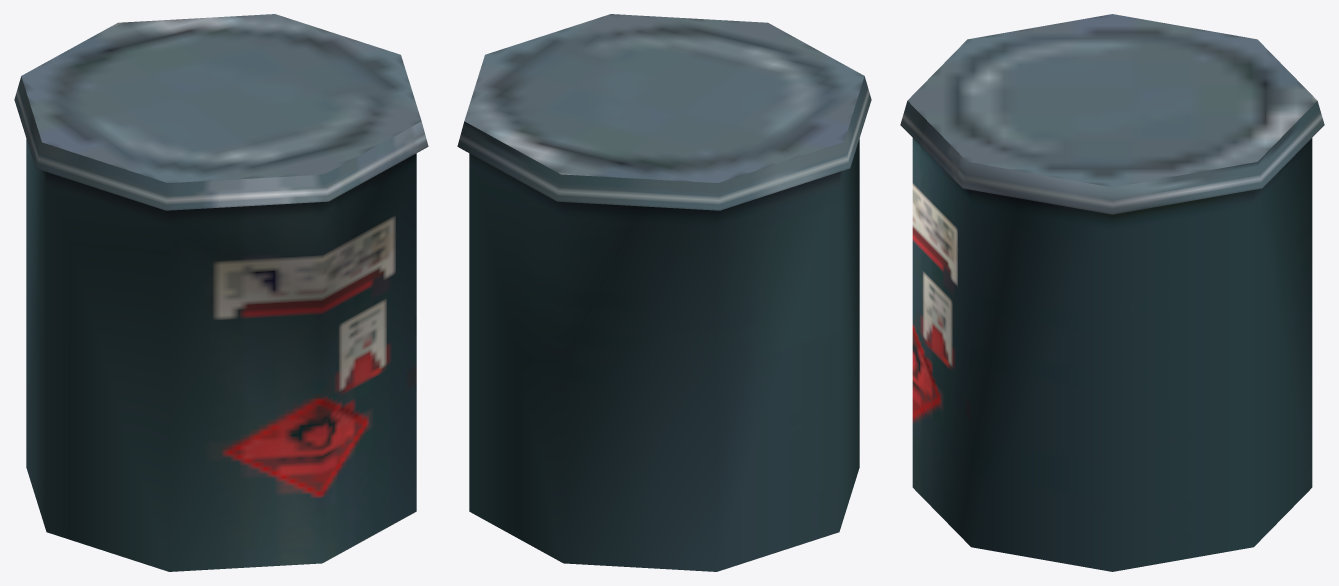
Rendered from chem_bucket.fbx.
3 renders of one model, left to right at view 1: azimuth 30°, elevation 25°; view 2: azimuth 150°, elevation 25°; view 3: azimuth 270°, elevation 25°, orthographic.
Visible parts, largest first — view 1: mesh_0; view 2: mesh_0; view 3: mesh_0.
Part boxes in pixels (box(x1,y1,x2,y2)): mesh_0: box(14, 14, 428, 571); mesh_0: box(457, 14, 871, 571); mesh_0: box(900, 14, 1324, 571).
Size of the model in its own units: 35.92 by 36.12 by 35.92.
Materials: 1 (1 with a texture image).
